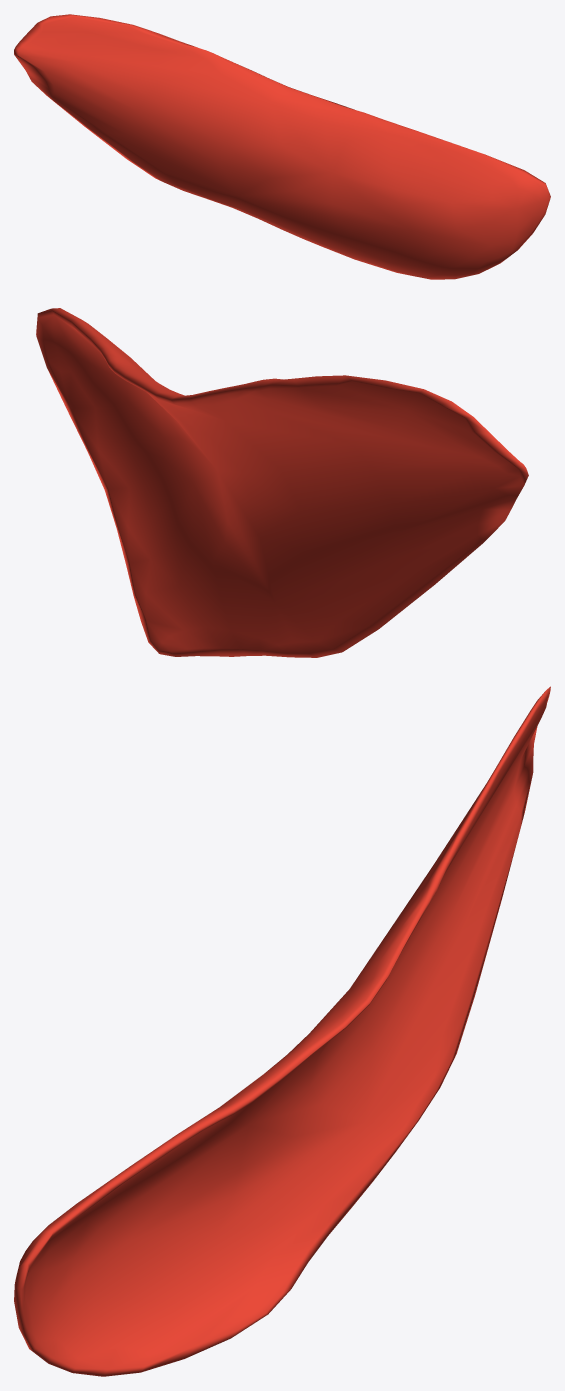
The model's file is Pectineus_muscle-Pubic_insertion.r_Generated_Mesh_From_X3D.809.glb.
3 views of the same model, one above another, from view 1: azimuth 30°, elevation 25°; view 2: azimuth 150°, elevation 25°; view 3: azimuth 270°, elevation 25° (orthographic). The views are drawn at different scales.
Parts seen in each view (by area): view 1: Pectineus_muscle-Pubic_insertion.r_Generated_Mesh_From_X3D.8; view 2: Pectineus_muscle-Pubic_insertion.r_Generated_Mesh_From_X3D.8; view 3: Pectineus_muscle-Pubic_insertion.r_Generated_Mesh_From_X3D.8.
Part boxes in pixels (x1,y1,x2,y2): Pectineus_muscle-Pubic_insertion.r_Generated_Mesh_From_X3D.8: (14, 14, 550, 279); Pectineus_muscle-Pubic_insertion.r_Generated_Mesh_From_X3D.8: (36, 308, 528, 657); Pectineus_muscle-Pubic_insertion.r_Generated_Mesh_From_X3D.8: (14, 686, 550, 1376).
Size of the model in its own units: 0.0387 by 0.0232 by 0.0255.
